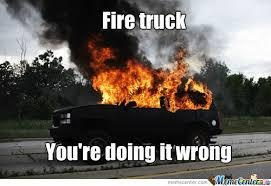fire: (88, 45, 217, 110)
